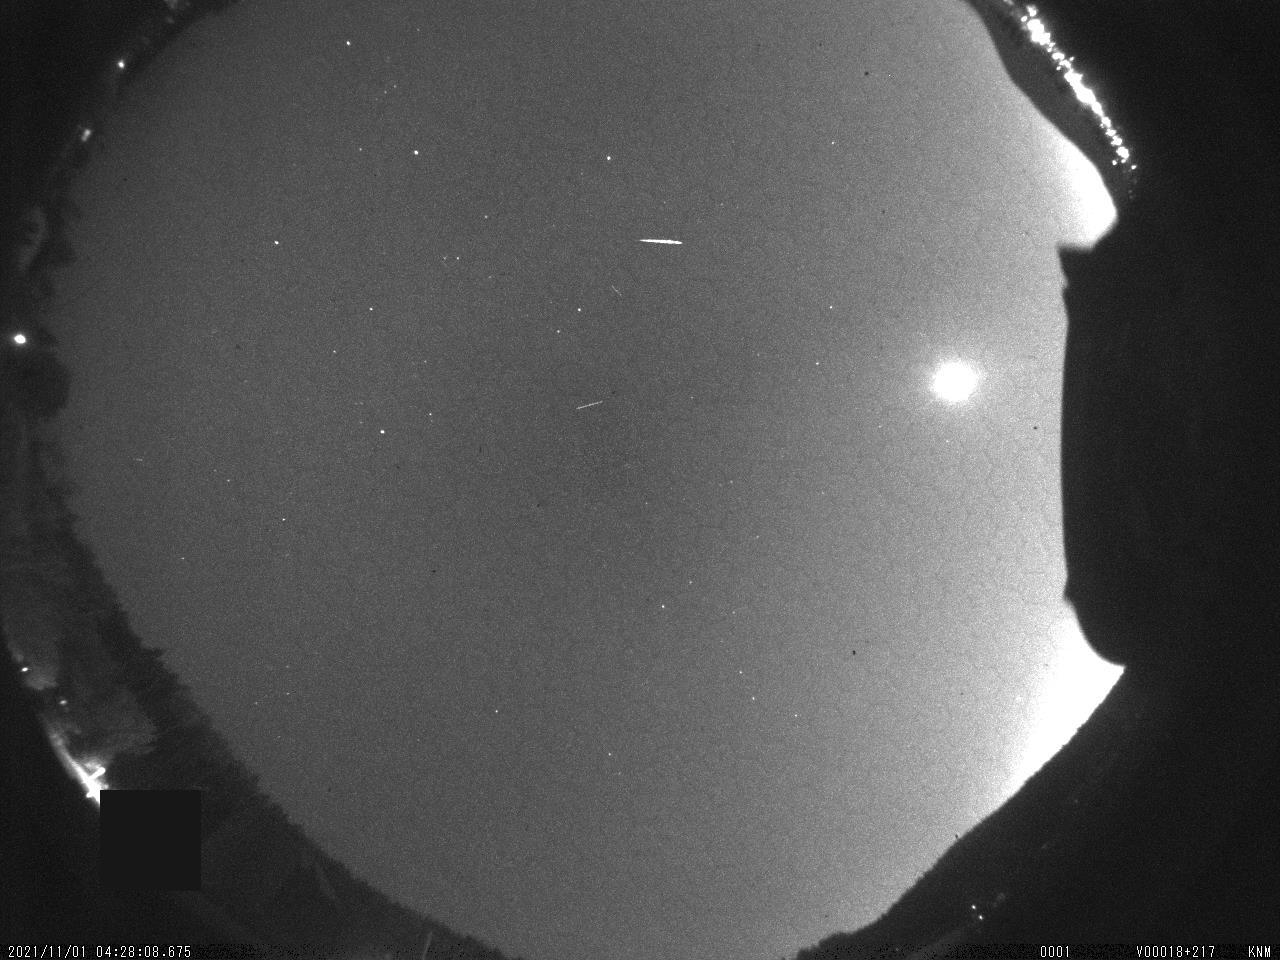meteor: (634, 233, 687, 251)
